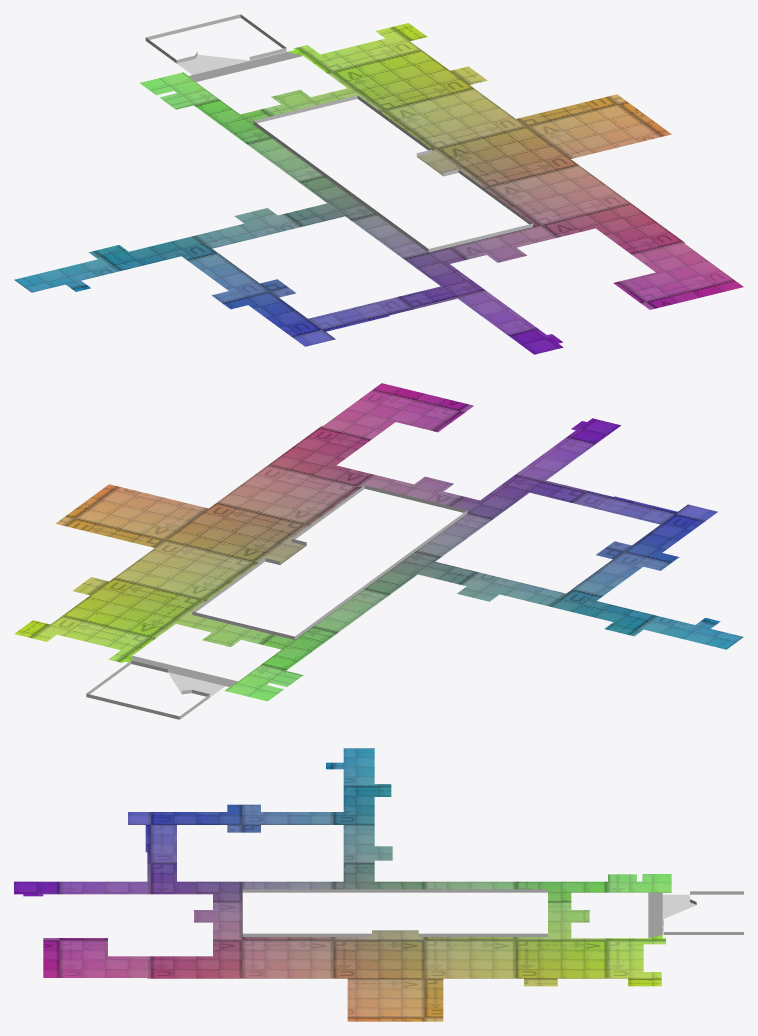
File: Floor5Roof.fbx
3 views of the same model, one above another, from view 1: azimuth 30°, elevation 25°; view 2: azimuth 150°, elevation 25°; view 3: azimuth 270°, elevation 25° (orthographic). The views are drawn at different scales.
Visible parts, largest first — view 1: Floor5Roof; view 2: Floor5Roof; view 3: Floor5Roof.
Part boxes in pixels (x1,y1,x2,y2): Floor5Roof: [14, 14, 743, 354]; Floor5Roof: [14, 383, 743, 719]; Floor5Roof: [14, 748, 743, 1021].
Bounding box in the file's own units: 2219 × 11.6 × 2505.
